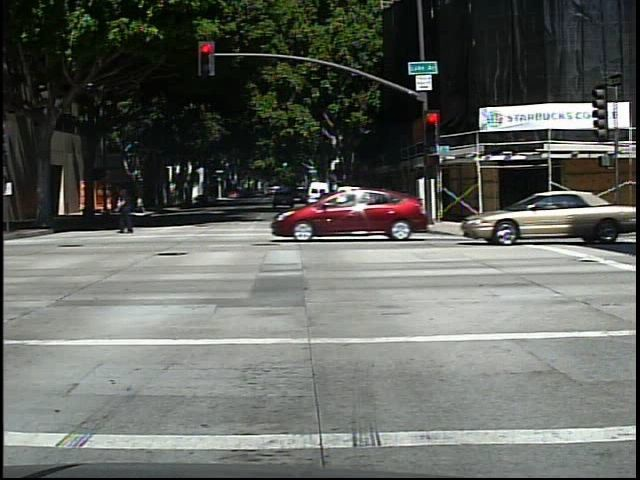person: (111, 184, 144, 236)
